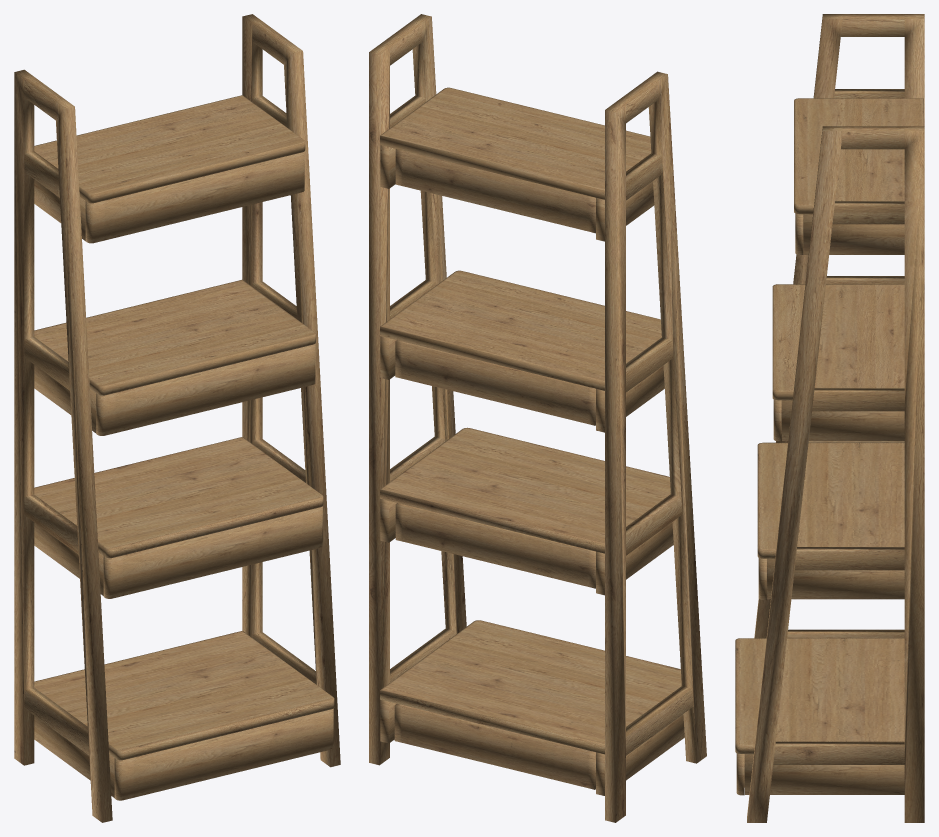
The model's file is product.glb.
3 views of the same model, side by side, from view 1: azimuth 30°, elevation 25°; view 2: azimuth 150°, elevation 25°; view 3: azimuth 270°, elevation 25° (orthographic). The views are drawn at different scales.
Parts seen in each view (by area): view 1: Frame, Top.003, Top.002, Top.001, Top, Front of the drawer.001, Front of the drawer.004, Front of the drawer.002, Front of the drawer, supports.003, supports.002, supports.001 (+1 smaller); view 2: Frame, Top.003, Top.002, Top.001, Top, sides of the drawer.003, sides of the drawer.002, sides of the drawer.001, sides of the drawer, supports.003, supports.002, supports.001 (+1 smaller); view 3: Frame, Top.003, Top.002, Top.001, Top, supports.003, supports.002, supports.001, supports, Front of the drawer.001, Front of the drawer.004, Front of the drawer.002 (+1 smaller).
Boxes of the visible parts, box(x1,y1,x2,y2) form: Frame: box(14, 14, 340, 822); Top.003: box(34, 631, 334, 760); Top.002: box(34, 437, 323, 558); Top.001: box(34, 279, 315, 395); Top: box(34, 95, 305, 203); Front of the drawer.001: box(103, 506, 322, 598); Front of the drawer.004: box(96, 344, 315, 435); Front of the drawer.002: box(114, 708, 333, 800); Front of the drawer: box(85, 151, 304, 243); supports.003: box(34, 716, 114, 797); supports.002: box(34, 523, 103, 595); supports.001: box(34, 365, 96, 433); Frame: box(369, 14, 706, 822); Top.003: box(380, 620, 681, 754); Top.002: box(380, 427, 670, 553); Top.001: box(380, 270, 661, 390); Top: box(380, 87, 651, 199); sides of the drawer.003: box(394, 704, 595, 789); sides of the drawer.002: box(395, 503, 595, 588); sides of the drawer.001: box(395, 340, 595, 425); sides of the drawer: box(395, 149, 595, 233); supports.003: box(380, 699, 684, 795); supports.002: box(380, 499, 673, 595); supports.001: box(380, 336, 664, 432); Frame: box(747, 14, 924, 822); Top.003: box(735, 638, 904, 753); Top.002: box(757, 442, 904, 558); Top.001: box(772, 284, 904, 400); Top: box(794, 98, 923, 214); supports.003: box(745, 754, 904, 794); supports.002: box(767, 558, 904, 599); supports.001: box(782, 400, 904, 440); supports: box(803, 214, 904, 254); Front of the drawer.001: box(758, 558, 766, 600); Front of the drawer.004: box(773, 399, 781, 441); Front of the drawer.002: box(736, 753, 744, 795).
Bounding box in the file's own units: 0.5552 × 1.53 × 0.3787.
Materials: 1 (1 with a texture image).
